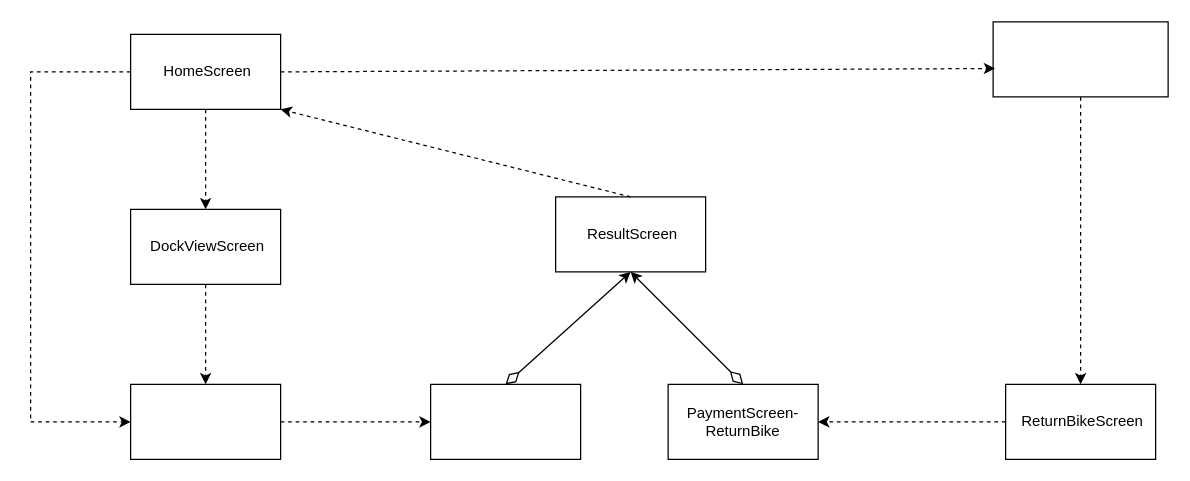
Image size: 1190x481. Some labels were removed from this diagram. The shapes that lost their labels are listed below. From the top down, each one's centre as x and y in pixels, then its label:
[1080,59]: 6. RentedBikeInfoScreen
[205,421]: BikeInfoScreen
[505,421]: PaymentScreen-RentBike
